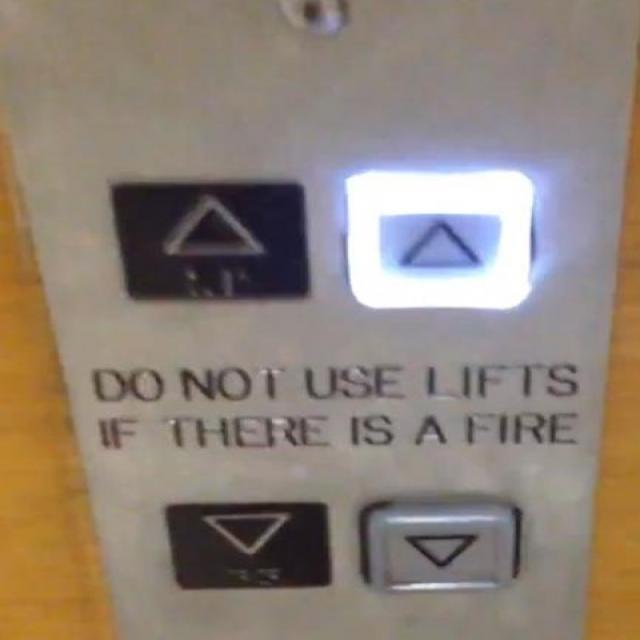down: (355, 496, 524, 596), (160, 497, 331, 592)
up: (339, 171, 537, 312), (107, 176, 312, 302)
